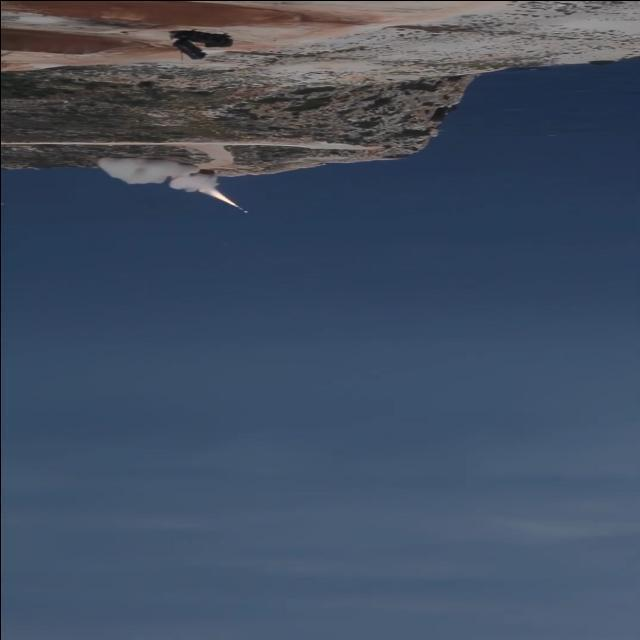missile: (235, 205, 248, 215)
